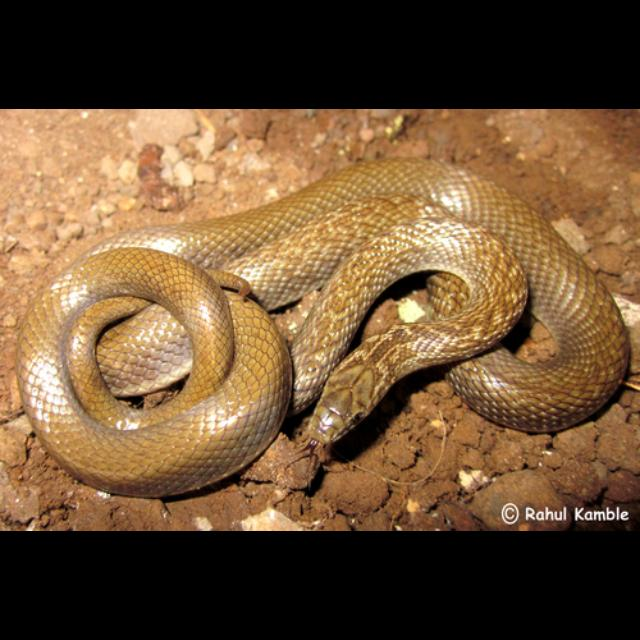snake: (8, 145, 640, 501)
